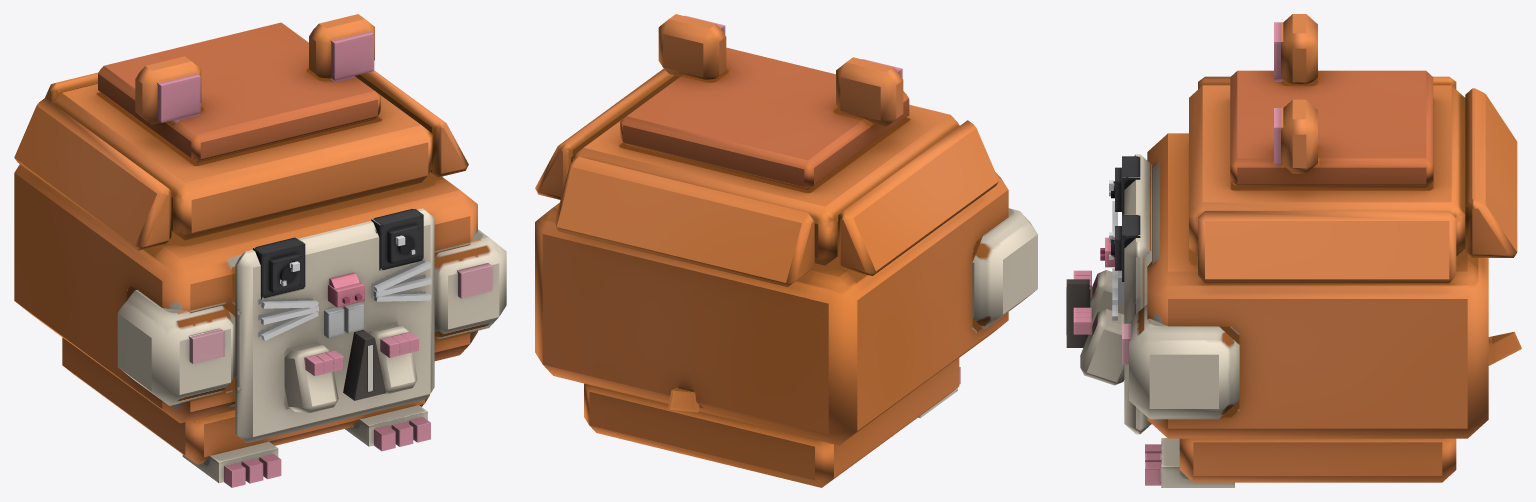
The model's file is HamsterJoufflu_Rig.fbx.
3 views of the same model, side by side, from view 1: azimuth 30°, elevation 25°; view 2: azimuth 150°, elevation 25°; view 3: azimuth 270°, elevation 25° (orthographic). The views are drawn at different scales.
Parts seen in each view (by area): view 1: Body, ArmL, EarR, EarL, ArmR; view 2: Body, EarL, EarR; view 3: Body, ArmL, EarL, EarR, ArmR.
Part boxes in pixels (x1,y1,x2,y2): Body: (14,22,506,487); ArmL: (343,325,418,400); EarR: (135,56,201,124); EarL: (309,14,374,80); ArmR: (284,344,343,412); Body: (535,47,1037,487); EarL: (658,14,726,79); EarR: (836,57,903,126); Body: (1100,70,1521,487); ArmL: (1066,279,1124,385); EarL: (1274,99,1317,173); EarR: (1274,14,1317,84); ArmR: (1073,270,1124,325).
Size of the model in its own units: 6.1 by 6 by 6.7.
1 material, 1 textured.
